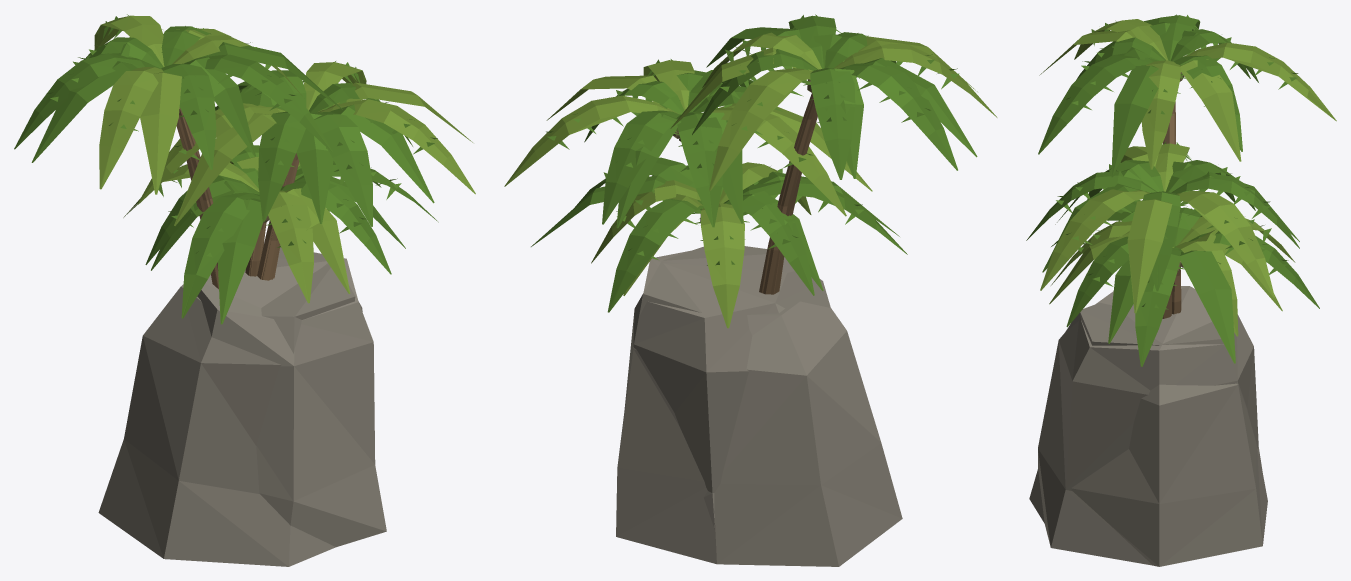
File: island_props.glb
The picture shows the model from 3 angles, left to right: view 1: azimuth 30°, elevation 25°; view 2: azimuth 150°, elevation 25°; view 3: azimuth 270°, elevation 25°; orthographic projection. The views are drawn at different scales.
Visible parts, largest first — view 1: cliff_2, cliff_1, palm_2, palm_1, palm_3, palm_2_lod, palm_1_lod, palm_3_lod; view 2: cliff_2, palm_2, cliff_1, palm_1, palm_3, palm_2_lod, palm_1_lod, palm_3_lod; view 3: cliff_2, cliff_1, palm_1, palm_2, palm_3, palm_2_lod, palm_3_lod, palm_1_lod.
Boxes of the visible parts, bbox=[...] form: cliff_2: bbox=[98, 245, 362, 566]; cliff_1: bbox=[197, 252, 386, 547]; palm_2: bbox=[14, 14, 332, 287]; palm_1: bbox=[137, 61, 475, 280]; palm_3: bbox=[124, 145, 438, 318]; palm_2_lod: bbox=[31, 23, 342, 289]; palm_1_lod: bbox=[174, 69, 472, 279]; palm_3_lod: bbox=[123, 157, 405, 324]; cliff_2: bbox=[616, 246, 902, 566]; palm_2: bbox=[692, 14, 997, 294]; cliff_1: bbox=[634, 250, 830, 529]; palm_1: bbox=[504, 59, 846, 227]; palm_3: bbox=[575, 157, 907, 328]; palm_2_lod: bbox=[670, 27, 977, 294]; palm_1_lod: bbox=[510, 70, 872, 228]; palm_3_lod: bbox=[531, 165, 899, 295]; cliff_2: bbox=[1029, 302, 1267, 566]; cliff_1: bbox=[1038, 286, 1262, 565]; palm_1: bbox=[1026, 142, 1299, 318]; palm_2: bbox=[1038, 14, 1336, 169]; palm_3: bbox=[1051, 200, 1319, 366]; palm_2_lod: bbox=[1039, 18, 1331, 177]; palm_3_lod: bbox=[1049, 211, 1295, 363]; palm_1_lod: bbox=[1042, 146, 1299, 318].
Bounding box in the file's own units: 10.4 × 10.91 × 7.07.
